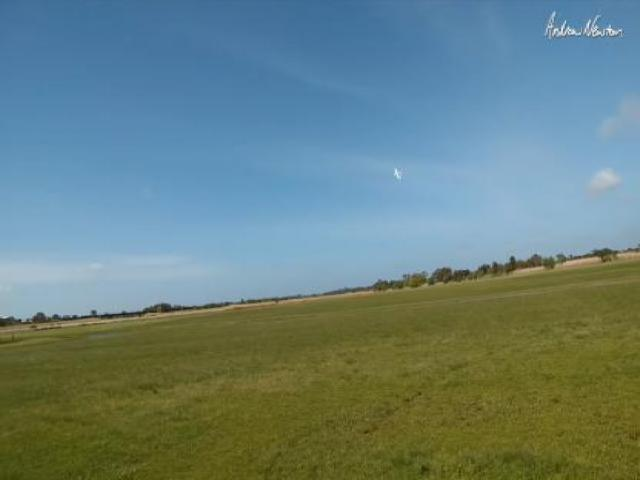uav: (389, 164, 405, 183)
